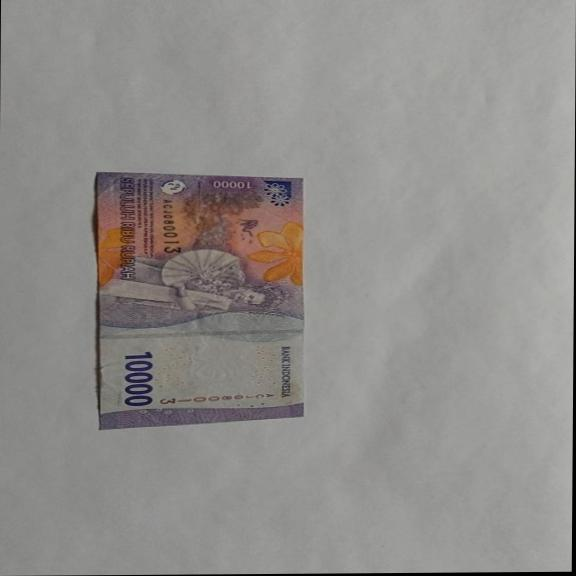Kertas: (91, 170, 307, 430)
